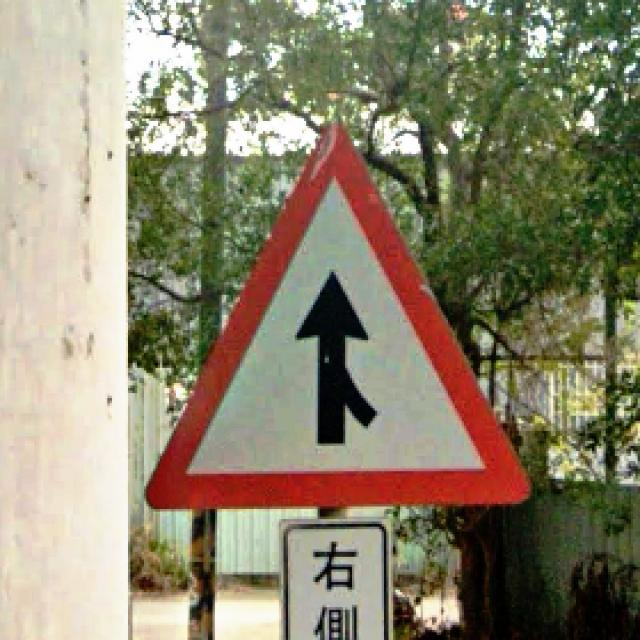rightmerge: (138, 116, 532, 502)
